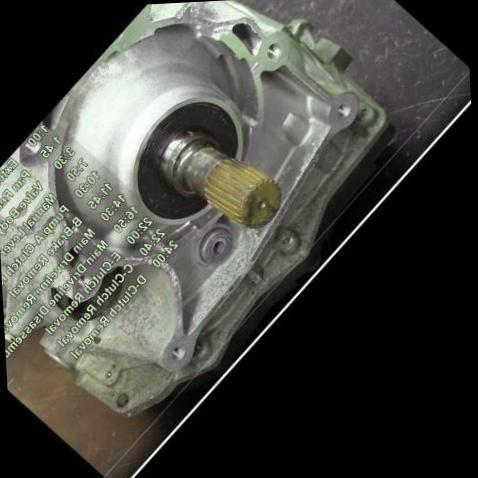hole: (260, 36, 288, 64), (168, 341, 192, 366), (333, 100, 356, 122)
